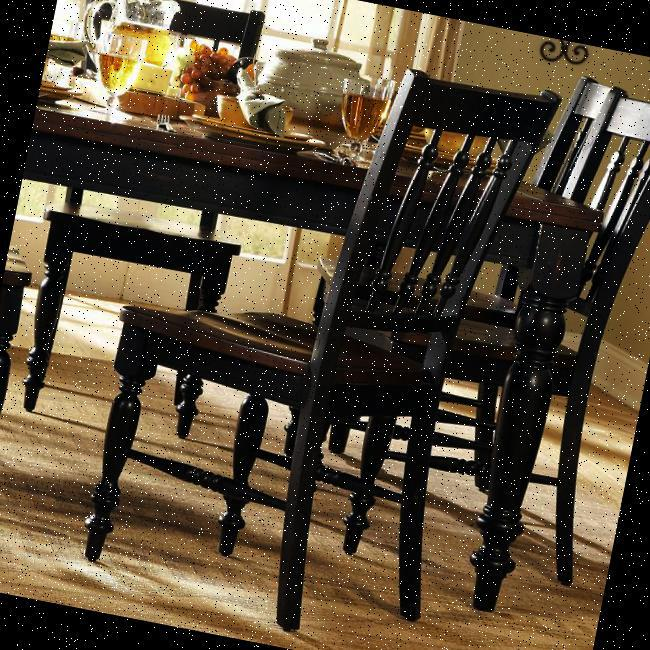Mesa: (0, 48, 598, 614)
Silla: (74, 17, 562, 649), (322, 40, 649, 602)
